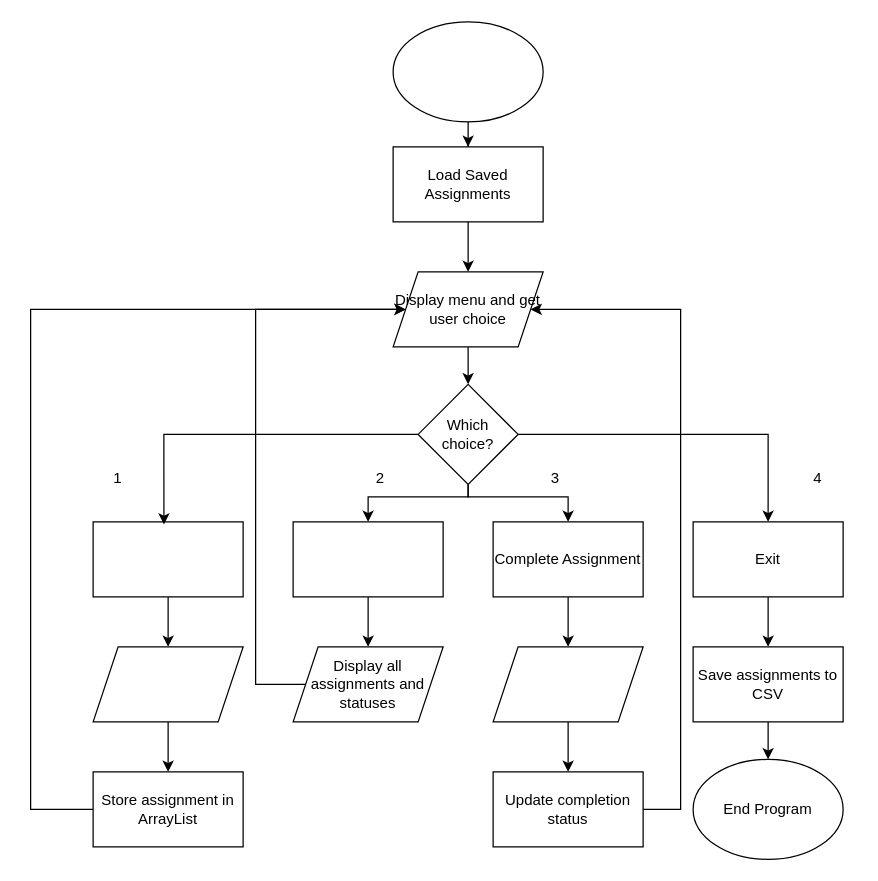
Some shapes in this 878 by 881 pixel diagram are drawn without their labels. The centre of each missing label's shape, as x and y in pixels:
"Add Assignment" goes at point (167, 559).
"Enter course, title, and due date" goes at point (167, 684).
"Select assignment to complete" goes at point (567, 684).
"Start Assignment Tracker" goes at point (467, 71).
"View Assignments" goes at point (367, 559).
